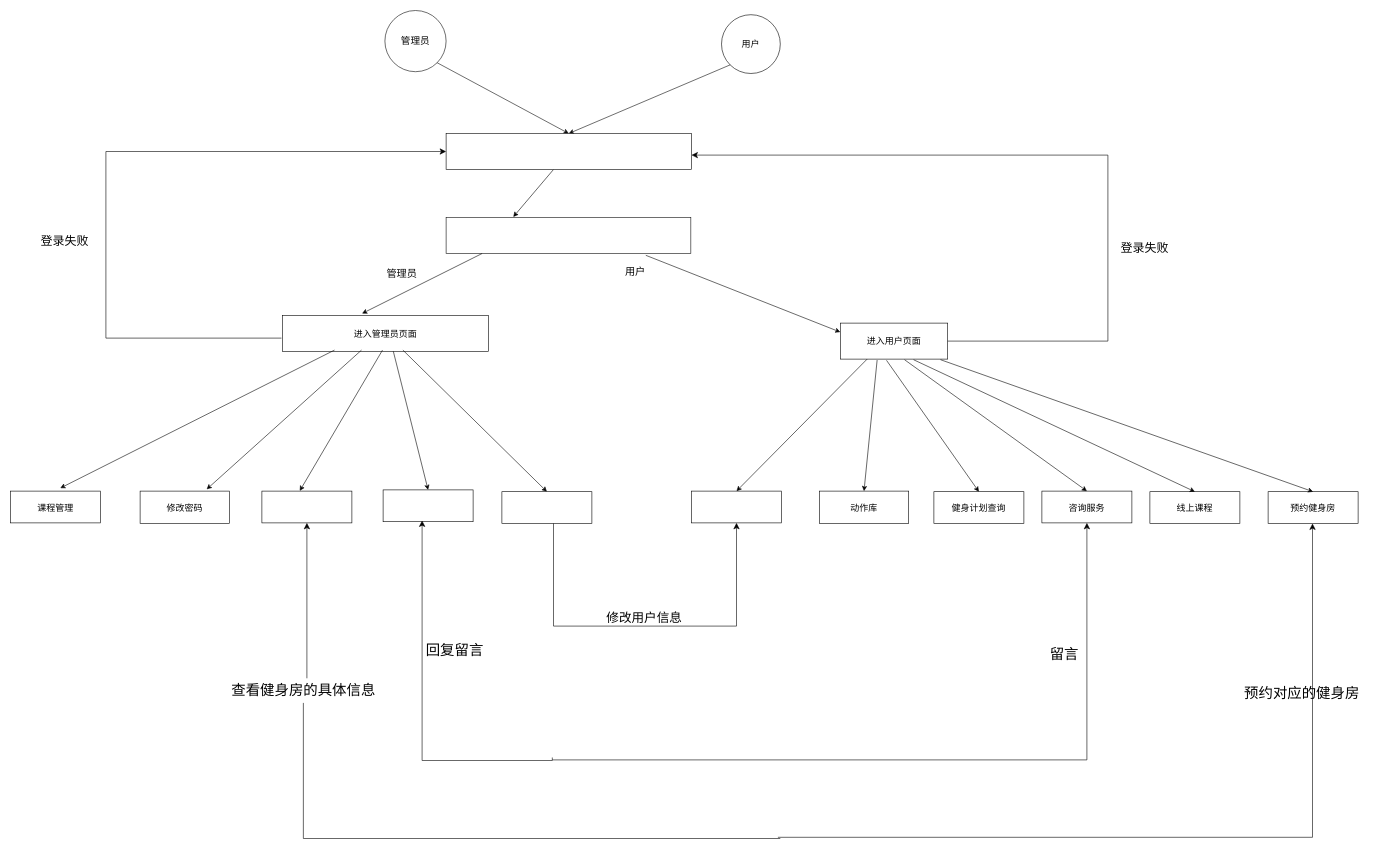
Some shapes in this 1375 by 854 pixel diagram are drawn without their labels. Each missing label, with the centre of its shape:
"个人信息管理" belongs at pixel 736 506.
"各个场馆位置管理" belongs at pixel 306 506.
"教练信息管理" belongs at pixel 427 505.
"用户信息管理" belongs at pixel 546 507.
"登录" belongs at pixel 568 151.
"选择身份" belongs at pixel 568 235.
